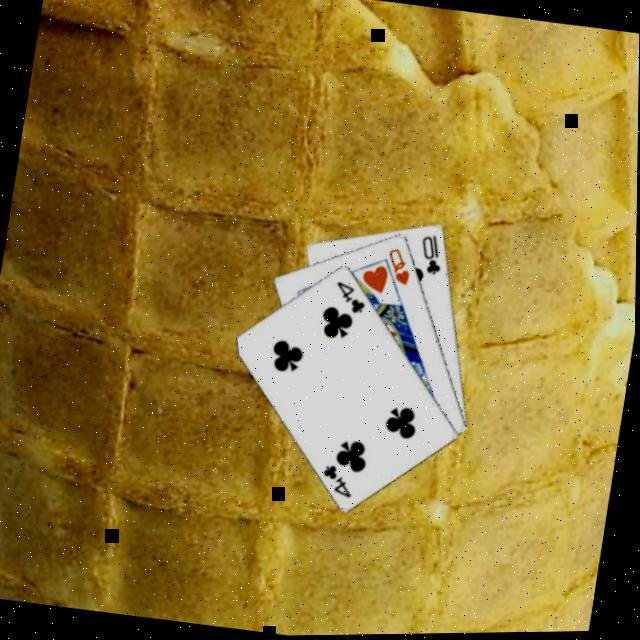10C: (416, 230, 450, 278)
4C: (331, 276, 374, 318), (319, 458, 362, 500)
QH: (382, 242, 419, 288)
